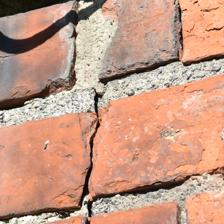Crack: (37, 41, 84, 181)
